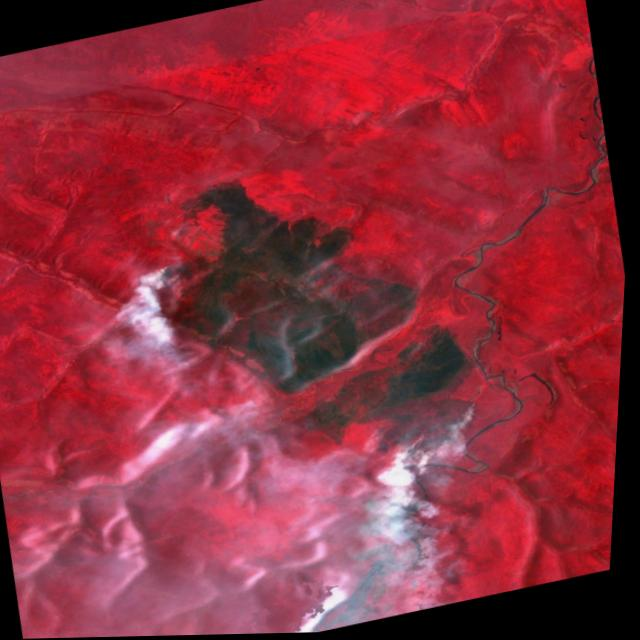fire: (353, 387, 497, 484), (149, 253, 198, 295)
